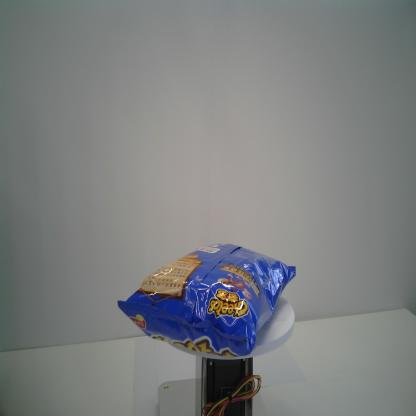Puffed Food: (117, 242, 297, 360)
